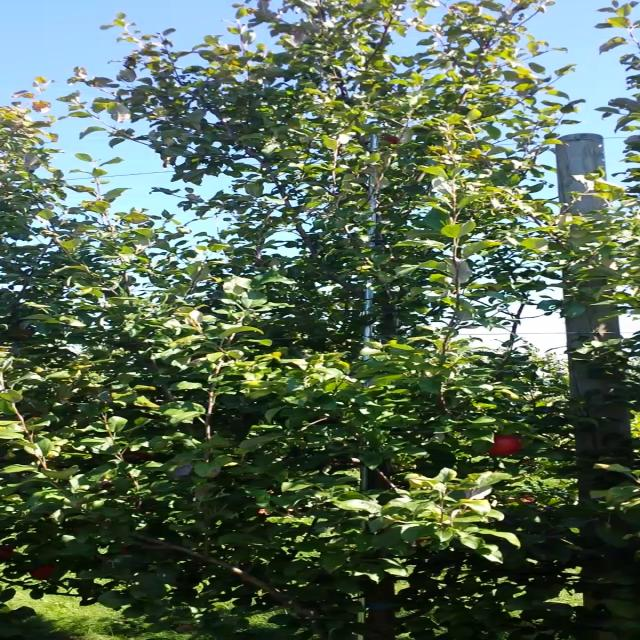apple: (487, 434, 522, 456), (32, 565, 56, 579), (1, 544, 15, 558), (384, 136, 402, 144), (123, 548, 128, 554)
